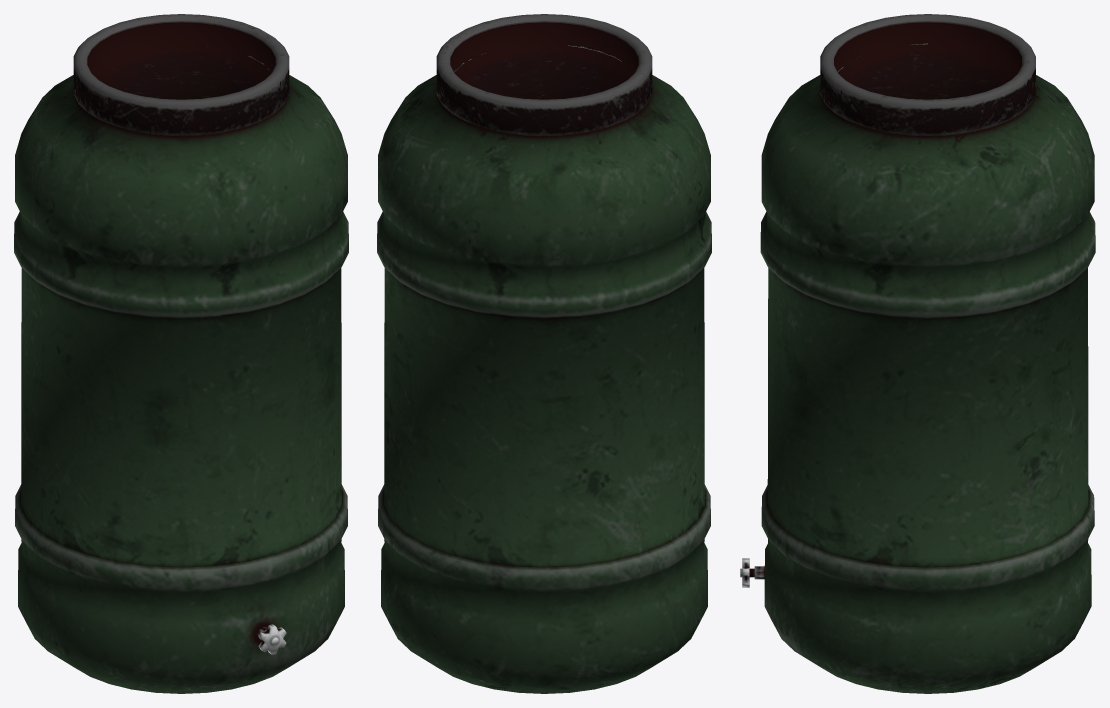
The model's file is SM_FAR_MilkBarrel_06.fbx.
The picture shows the model from 3 angles, left to right: view 1: azimuth 30°, elevation 25°; view 2: azimuth 150°, elevation 25°; view 3: azimuth 270°, elevation 25°; orthographic projection.
Visible parts, largest first — view 1: SM_FAR_MilkBarrel_06.mo; view 2: SM_FAR_MilkBarrel_06.mo; view 3: SM_FAR_MilkBarrel_06.mo.
Boxes of the visible parts, left/top/right/bottom form: SM_FAR_MilkBarrel_06.mo: left=14, top=14, right=348, bottom=693; SM_FAR_MilkBarrel_06.mo: left=377, top=14, right=711, bottom=693; SM_FAR_MilkBarrel_06.mo: left=740, top=14, right=1095, bottom=693.
Bounding box in the file's own units: 98.65 × 189 × 104.
